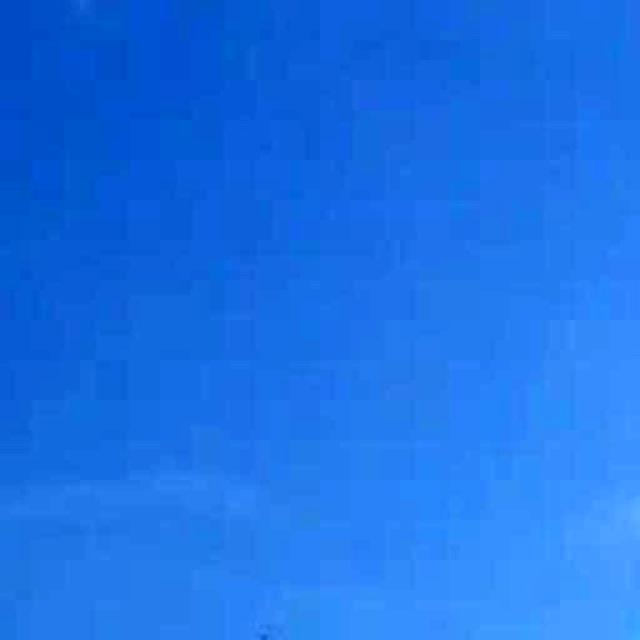drone: (245, 618, 288, 640)
